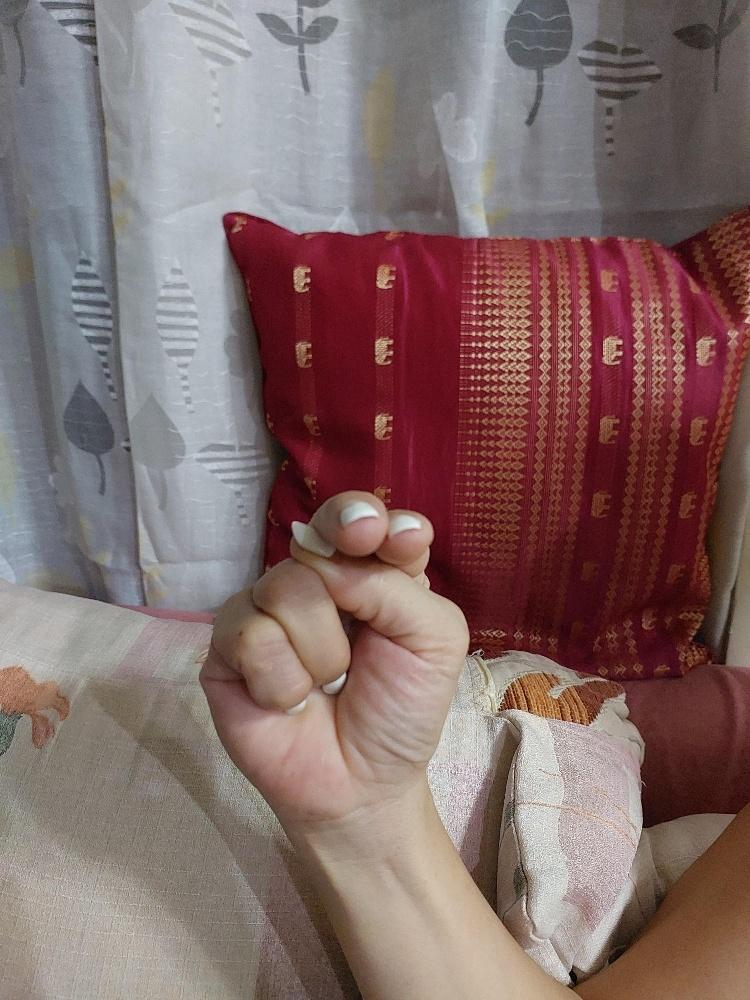n: (195, 486, 474, 809)
